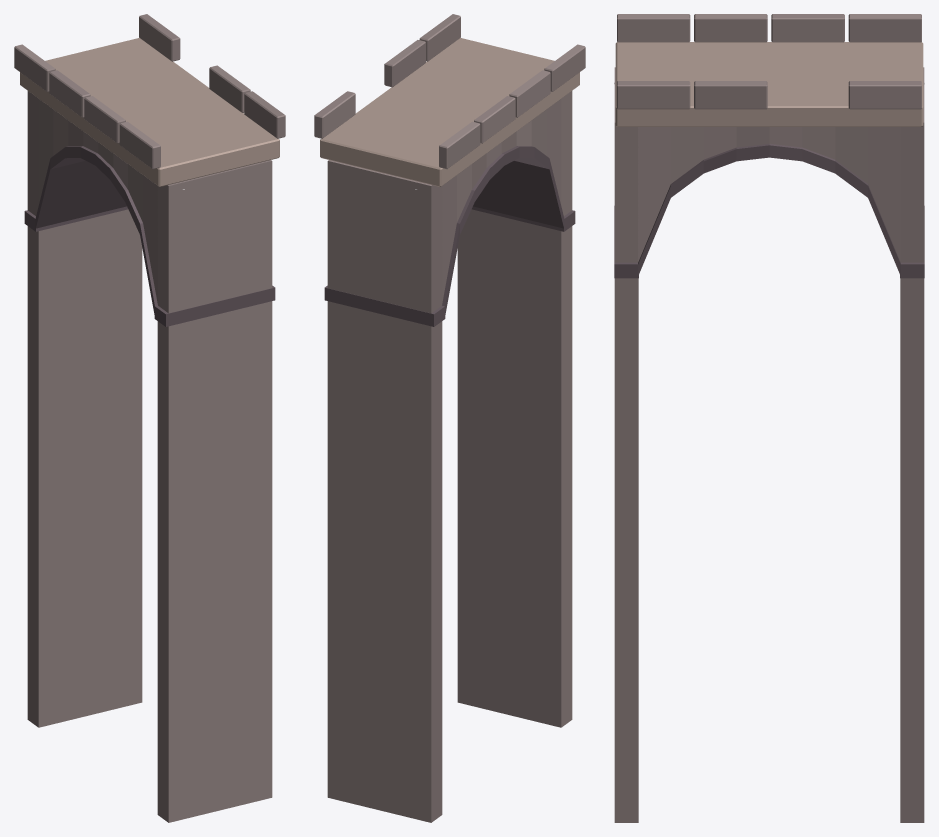
File: Bridge_Arch_Segment.fbx
3 renders of one model, left to right at view 1: azimuth 30°, elevation 25°; view 2: azimuth 150°, elevation 25°; view 3: azimuth 270°, elevation 25°, orthographic. The views are drawn at different scales.
Visible parts, largest first — view 1: Bridge_Arch_Segment; view 2: Bridge_Arch_Segment; view 3: Bridge_Arch_Segment.
Boxes of the visible parts, <box> form: Bridge_Arch_Segment: <box>14,14,285,822</box>; Bridge_Arch_Segment: <box>314,14,585,822</box>; Bridge_Arch_Segment: <box>614,14,924,822</box>.
Bounding box in the file's own units: 4.4 × 21.3 × 8.04.
